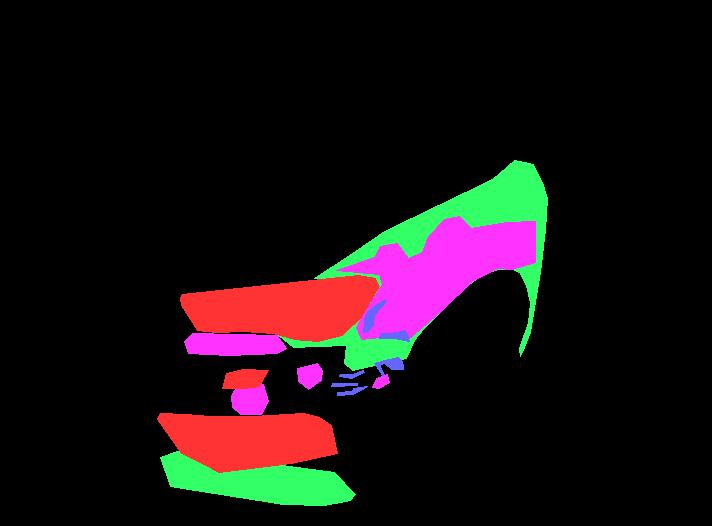Broken part: (273, 160, 547, 370), (160, 451, 355, 505)
Dent: (336, 216, 535, 340), (184, 333, 286, 355), (231, 384, 268, 414), (297, 363, 322, 389), (372, 374, 389, 388)
Missing part: (180, 275, 379, 341), (157, 413, 337, 472), (222, 369, 268, 388)
Scratch: (362, 299, 386, 332), (374, 357, 403, 375), (379, 330, 409, 341), (337, 386, 367, 395), (339, 370, 364, 378), (331, 383, 357, 386)
